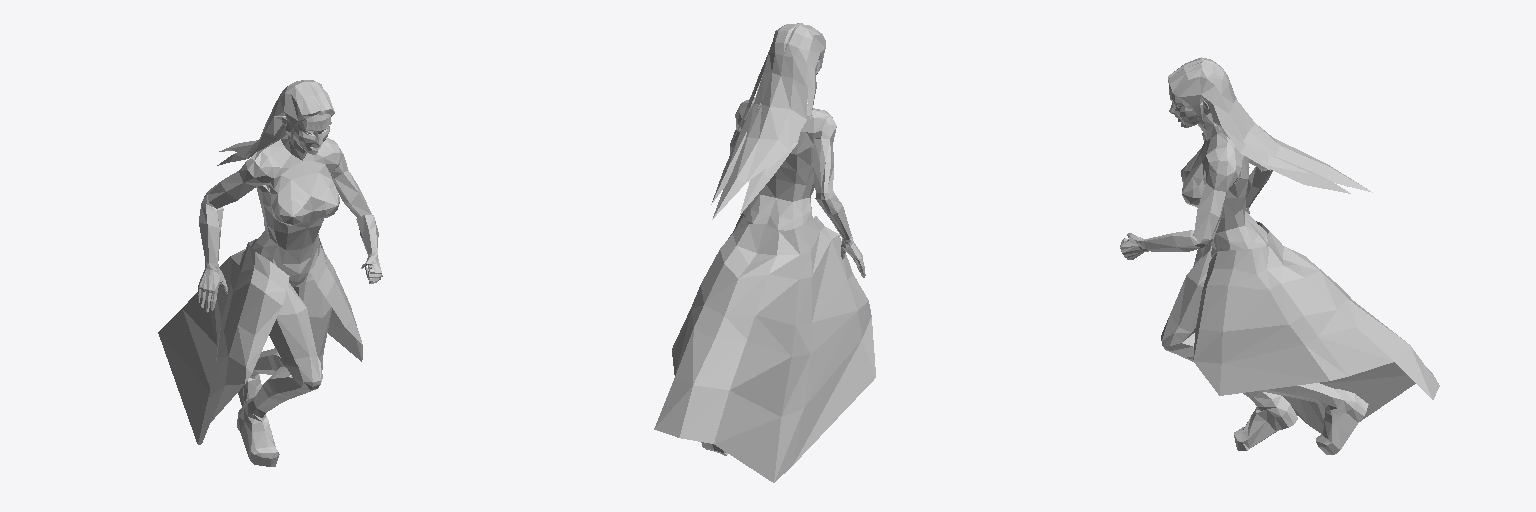
Rendered from running_018.obj.
3 renders of one model, left to right at view 1: azimuth 30°, elevation 25°; view 2: azimuth 150°, elevation 25°; view 3: azimuth 270°, elevation 25°, orthographic.
Parts seen in each view (by area): view 1: Plane.001_Plane.007, Plane.003_Plane.008, capelli.001_Plane.006; view 2: Plane.003_Plane.008, capelli.001_Plane.006, Plane.001_Plane.007; view 3: Plane.003_Plane.008, Plane.001_Plane.007, capelli.001_Plane.006.
Boxes of the visible parts, x1=… form: Plane.001_Plane.007: x1=197, y1=94, x2=382, y2=466; Plane.003_Plane.008: x1=158, y1=238, x2=362, y2=444; capelli.001_Plane.006: x1=217, y1=80, x2=334, y2=165; Plane.003_Plane.008: x1=654, y1=209, x2=875, y2=482; capelli.001_Plane.006: x1=711, y1=23, x2=825, y2=219; Plane.001_Plane.007: x1=701, y1=62, x2=865, y2=455; Plane.003_Plane.008: x1=1193, y1=221, x2=1439, y2=433; Plane.001_Plane.007: x1=1120, y1=67, x2=1368, y2=454; capelli.001_Plane.006: x1=1168, y1=57, x2=1372, y2=193.
Size of the model in its own units: 2.01 by 5 by 3.61.